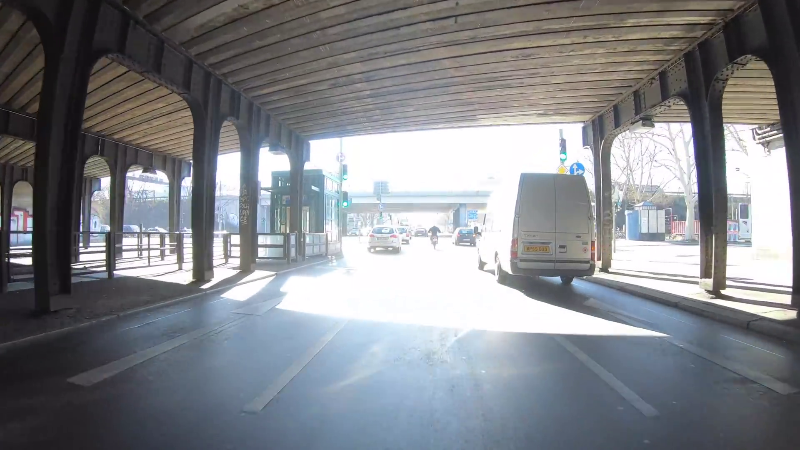Plate: (522, 242, 551, 253)
